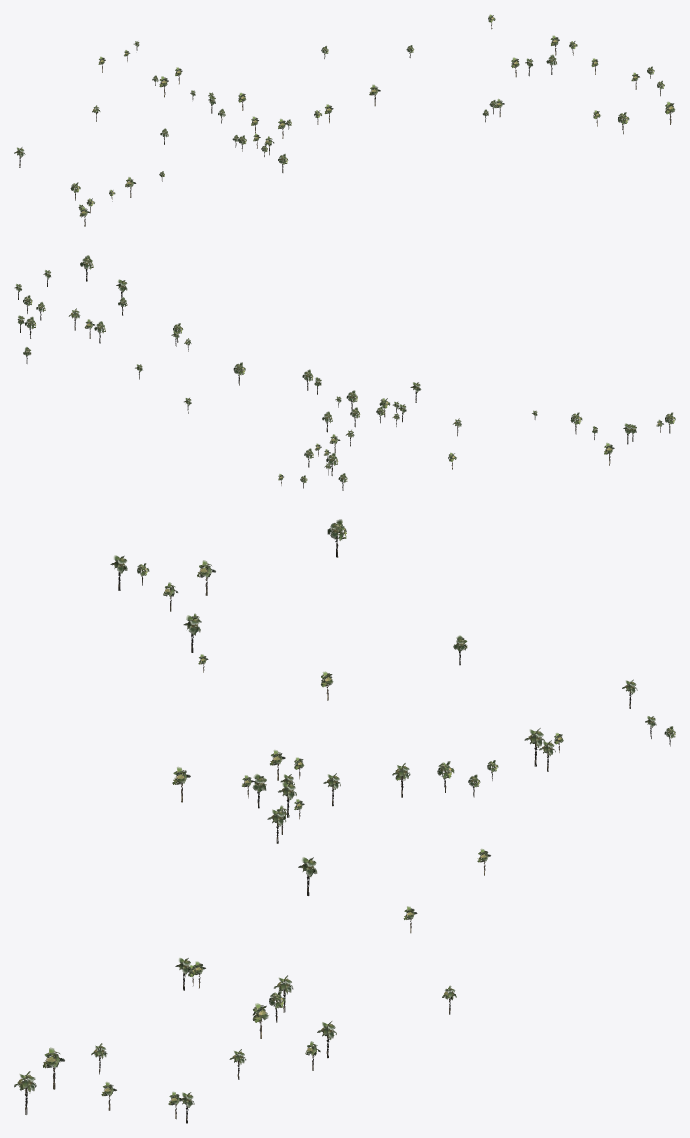
Rendered from Palmera02.glb.
3 renders of one model, top to bottom at view 1: azimuth 30°, elevation 25°; view 2: azimuth 150°, elevation 25°; view 3: azimuth 270°, elevation 25°, orthographic. The views are drawn at different scales.
Parts seen in each view (by area): view 1: Palmera02Web; view 2: Palmera02Web; view 3: Palmera02Web.
Boxes of the visible parts, x1,y1,x2,y2 form: Palmera02Web: [14, 14, 675, 226]; Palmera02Web: [14, 255, 675, 490]; Palmera02Web: [14, 519, 675, 1123].
Size of the model in its own units: 296 by 27.53 by 158.
Materials: 1 (1 with a texture image).
